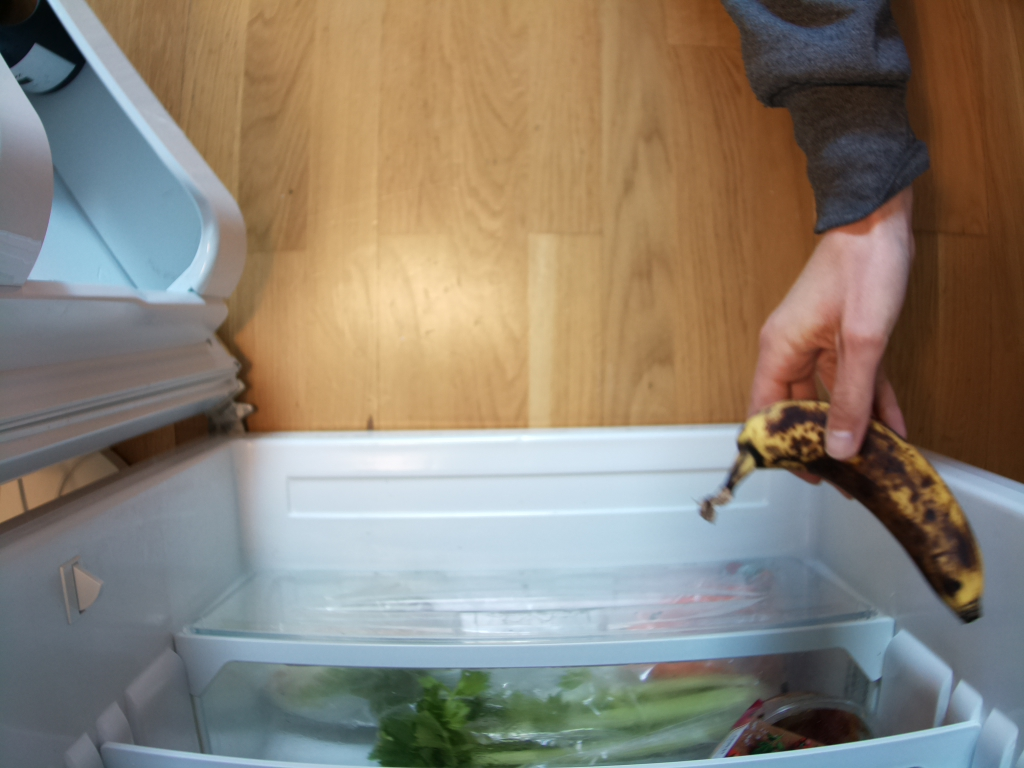banana-overripe: (698, 398, 984, 626)
